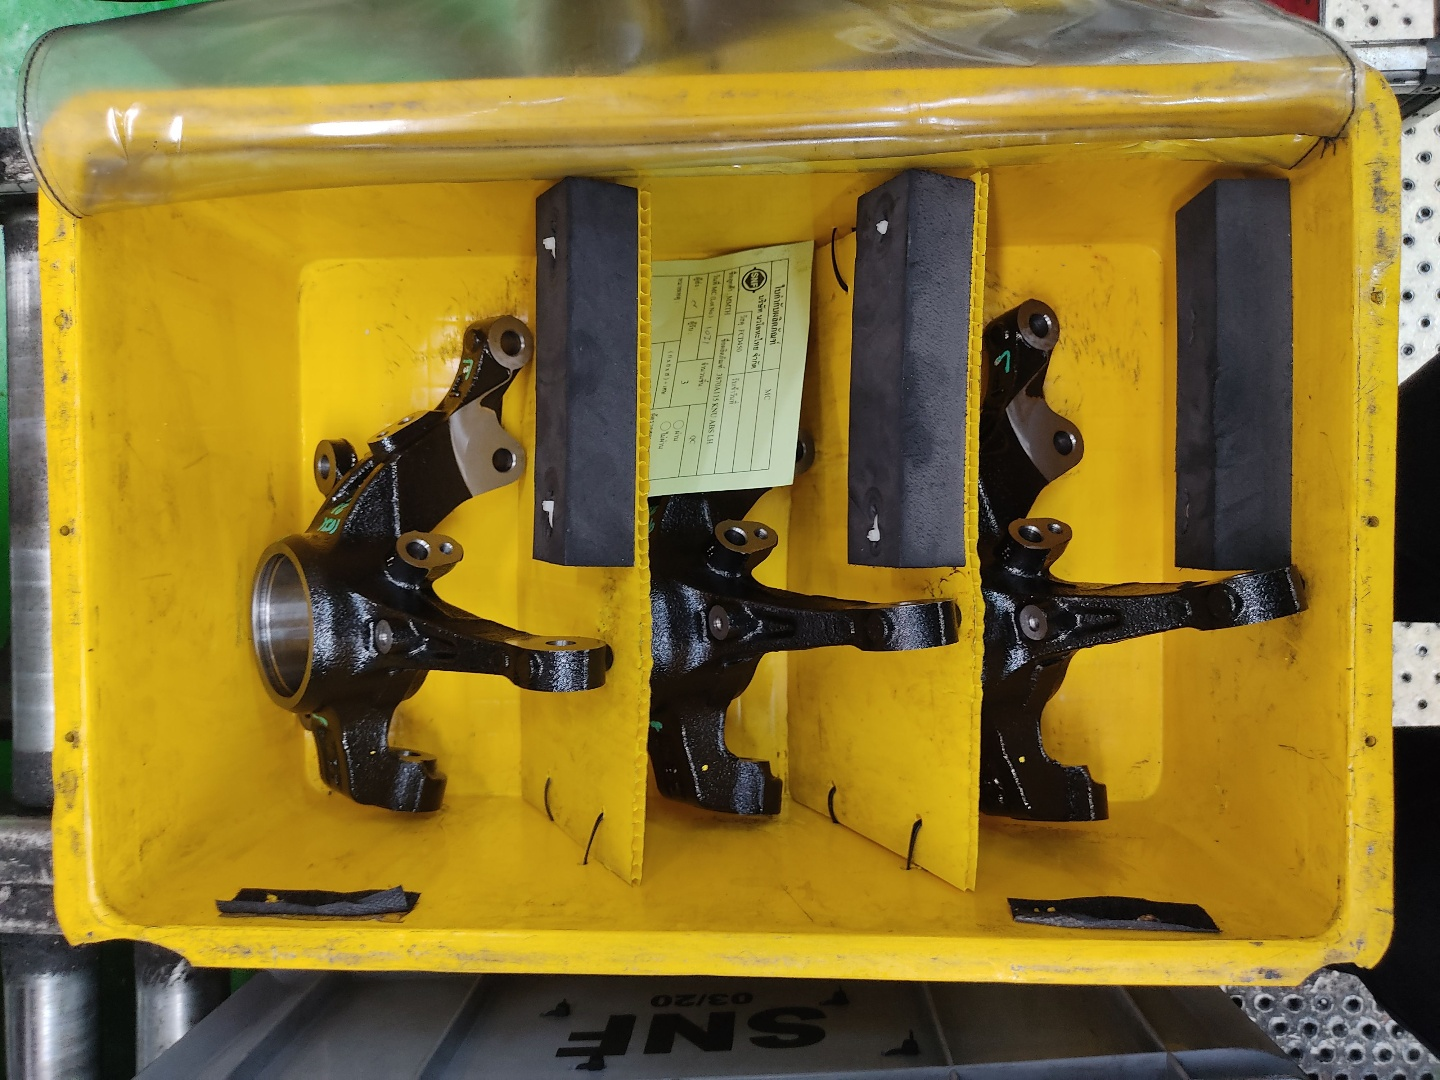abs-lh: (242, 303, 618, 830), (964, 286, 1315, 842), (636, 292, 965, 835)
